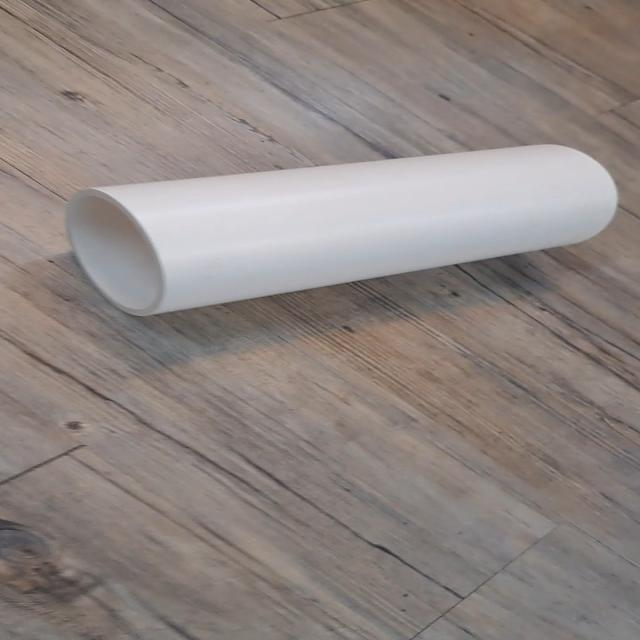CORAL: (57, 136, 622, 330)
